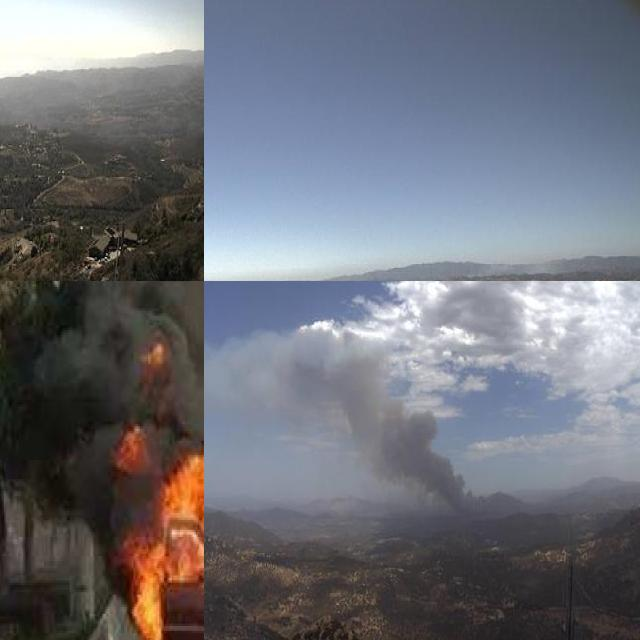fire: (119, 404, 204, 640)
smoke: (204, 319, 498, 537), (0, 281, 204, 508), (461, 243, 561, 281)
